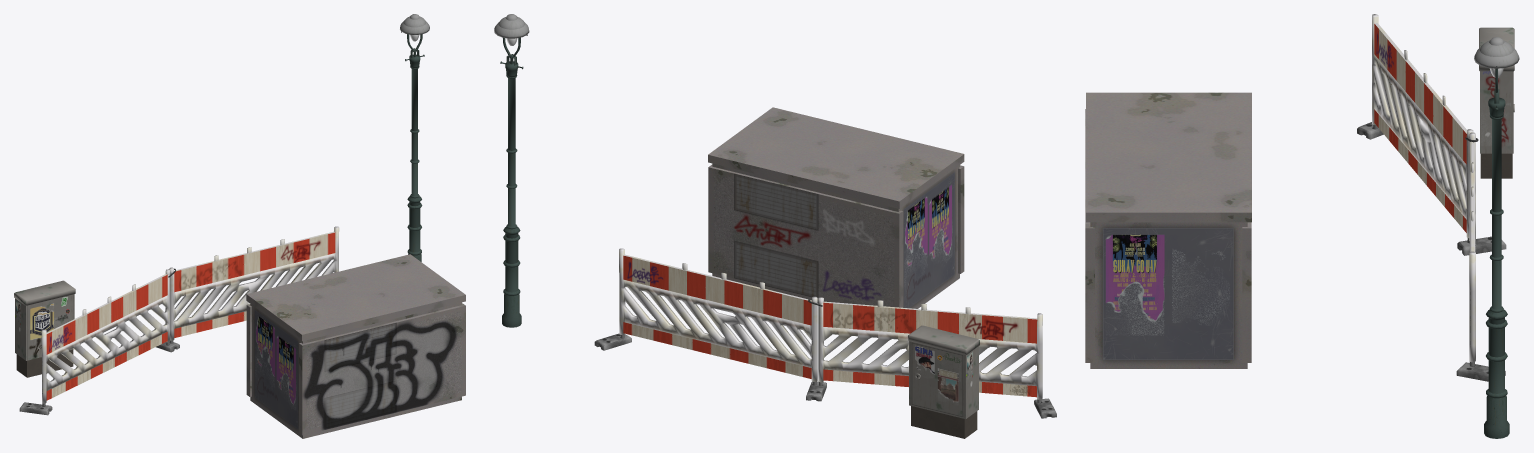
3 renders of one model, left to right at view 1: azimuth 30°, elevation 25°; view 2: azimuth 150°, elevation 25°; view 3: azimuth 270°, elevation 25°, orthographic. The views are drawn at different scales.
Parts seen in each view (by area): view 1: Object_5, Object_2, Object_4, Object_6, Object_3; view 2: Object_5, Object_2, Object_4, Object_6, Object_3; view 3: Object_5, Object_2, Object_6, Object_4, Object_3.
Boxes of the visible parts, x1,y1,x2,y2 form: Object_5: (246,254,465,438); Object_2: (41,226,339,406); Object_4: (14,280,75,377); Object_6: (400,14,429,261); Object_3: (19,342,179,415); Object_5: (708,107,964,308); Object_2: (619,248,1042,403); Object_4: (908,325,979,438); Object_6: (494,14,529,327); Object_3: (594,333,1056,418); Object_5: (1085,92,1251,368); Object_2: (1372,14,1478,366); Object_6: (1474,37,1519,438); Object_4: (1479,27,1514,178); Object_3: (1357,122,1506,381).
Size of the model in its own units: 7.03 by 4.02 by 3.97.
5 materials, 5 textured.
